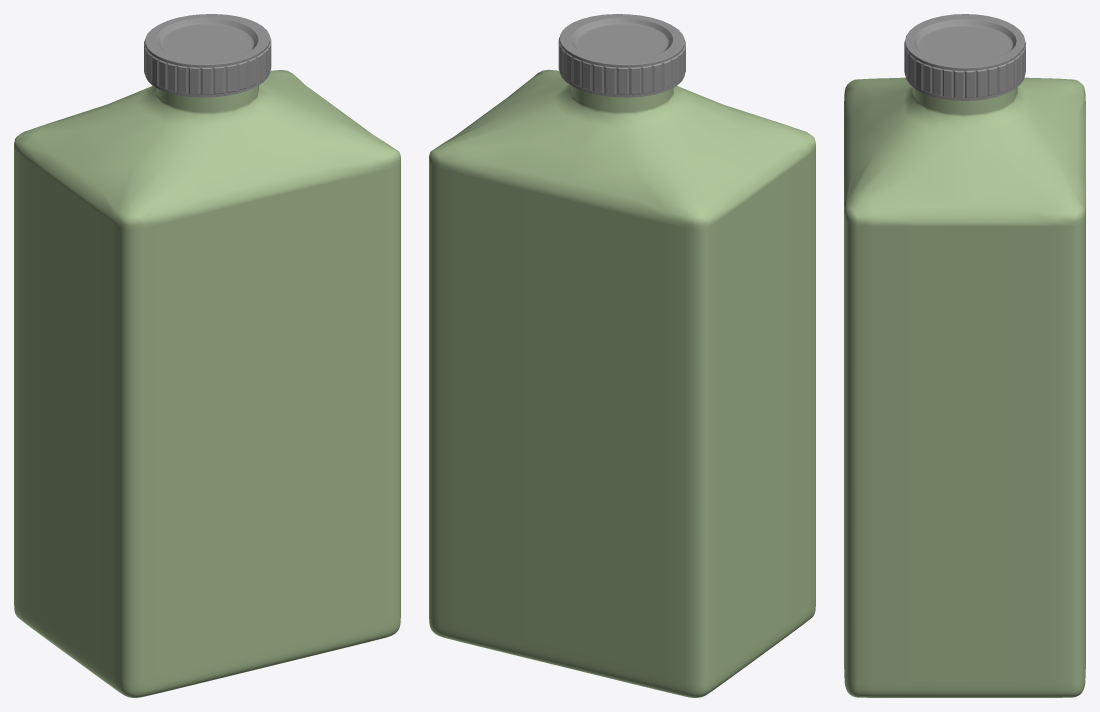
File: 500_mL_Jar.FBX
3 views of the same model, side by side, from view 1: azimuth 30°, elevation 25°; view 2: azimuth 150°, elevation 25°; view 3: azimuth 270°, elevation 25° (orthographic).
Parts seen in each view (by area): view 1: Bottle, Lid; view 2: Bottle, Lid; view 3: Bottle, Lid.
Part boxes in pixels (<box>): Bottle: <box>14,70,400,697</box>; Lid: <box>144,14,271,97</box>; Bottle: <box>429,69,815,697</box>; Lid: <box>558,14,685,97</box>; Bottle: <box>844,77,1085,697</box>; Lid: <box>904,14,1025,100</box>.
Bounding box in the file's own units: 3.75 × 7.5 × 2.78.
